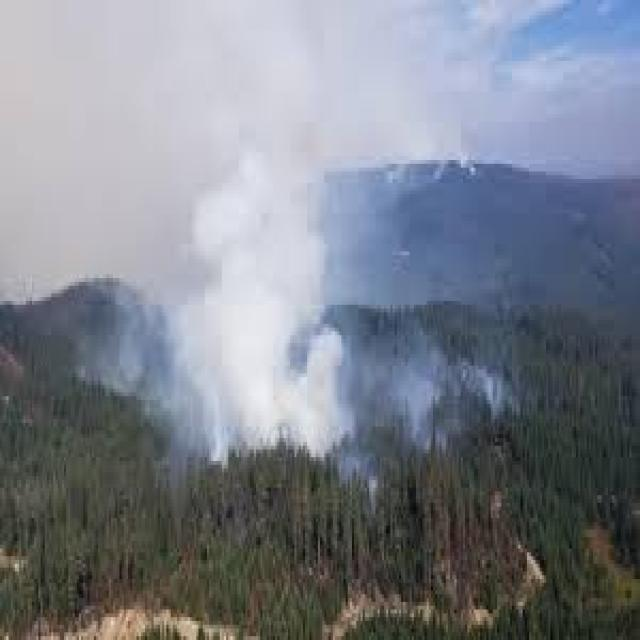Smoke: (66, 0, 372, 477), (164, 128, 358, 460), (197, 150, 352, 452), (129, 105, 328, 328), (137, 307, 361, 467), (160, 223, 270, 459), (398, 316, 456, 450), (470, 347, 510, 427)
